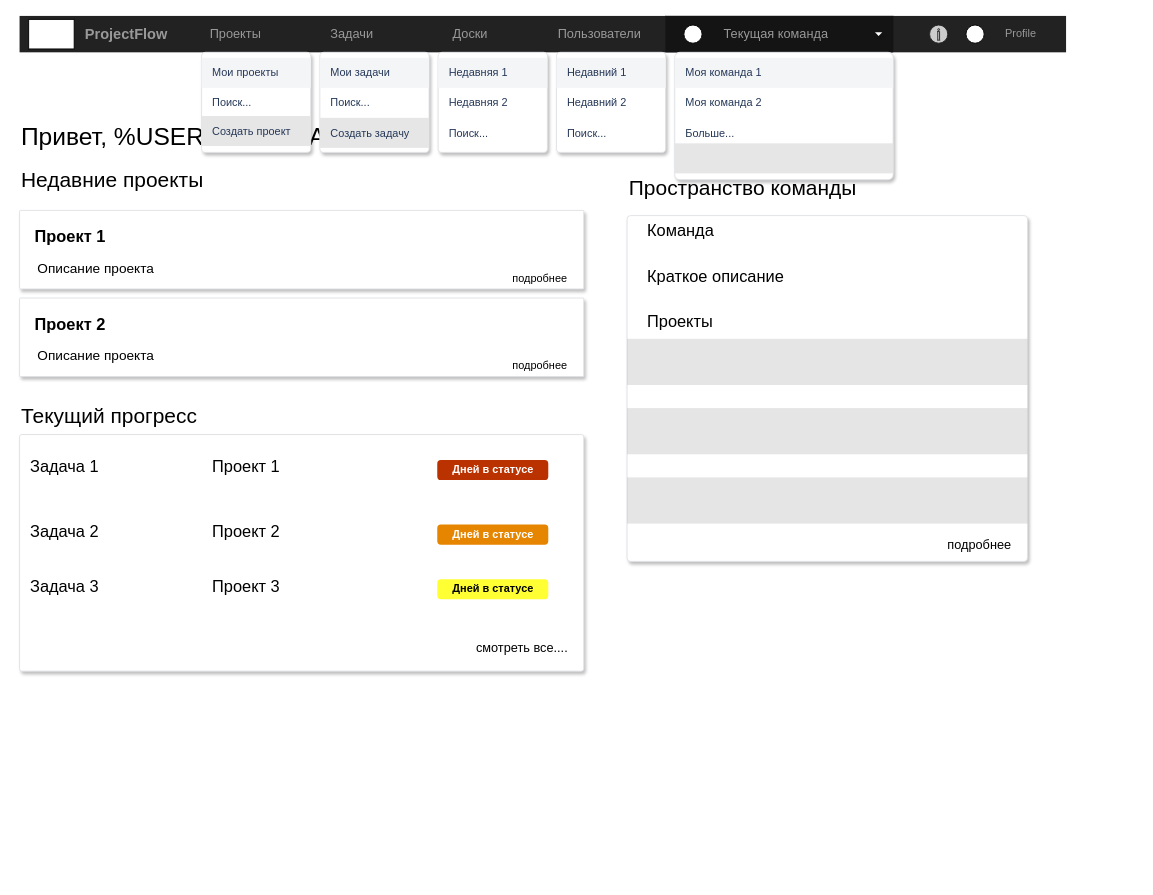
Some shapes in this 1153 by 895 pixel diagram are drawn without their labels. Each missing label, with the centre of its shape:
"Logo" goes at point 51,33.
"Создать команду" goes at point 783,158.
